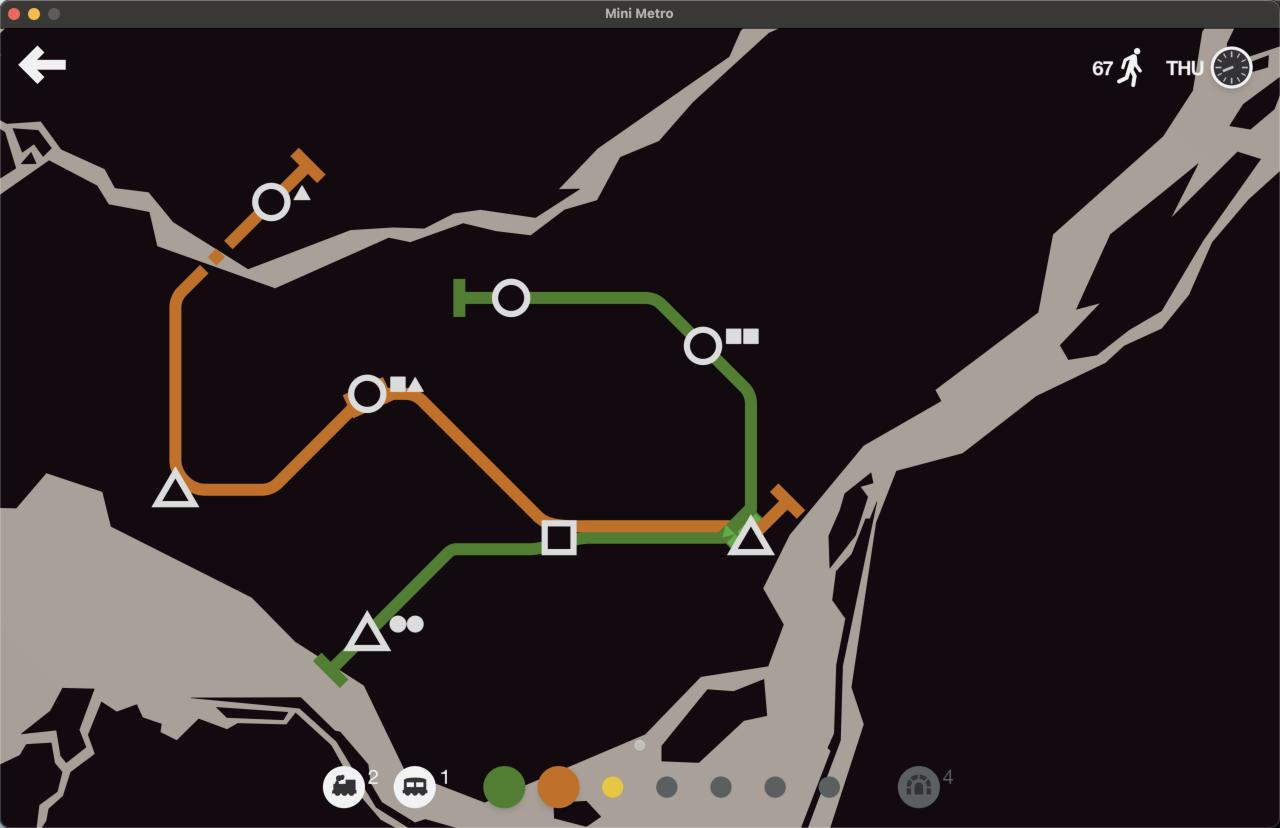CIRCLE: (682, 325, 724, 367), (490, 277, 532, 319), (347, 373, 388, 415), (251, 181, 292, 222)
SQUARE: (541, 519, 578, 556)
TRIANGLE: (342, 610, 394, 655), (725, 512, 775, 557), (151, 466, 200, 509)
